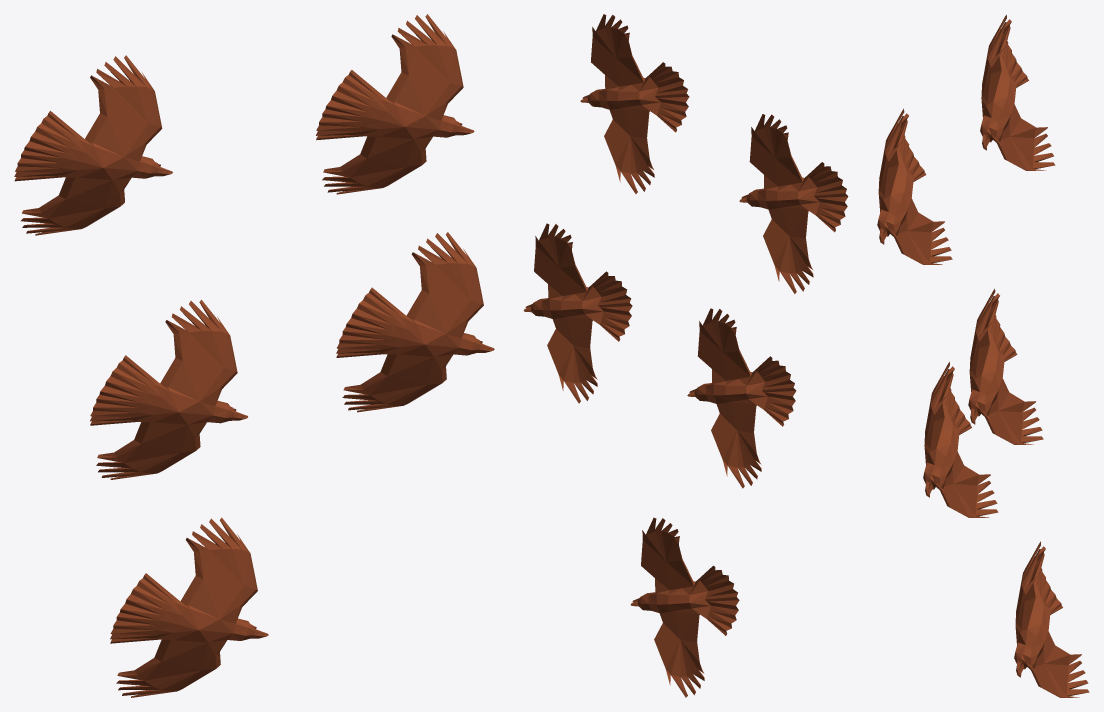
File: Bird_02.obj
3 views of the same model, side by side, from view 1: azimuth 30°, elevation 25°; view 2: azimuth 150°, elevation 25°; view 3: azimuth 270°, elevation 25° (orthographic). The views are drawn at different scales.
Parts seen in each view (by area): view 1: pCube7.1, pCube7, pCube7.2, pCube7.3, pCube7.4; view 2: pCube7.3, pCube7.2, pCube7.4, pCube7, pCube7.1; view 3: pCube7, pCube7.3, pCube7.1, pCube7.4, pCube7.2.
Boxes of the visible parts, x1,y1,x2,y2 form: pCube7.1: (316, 14, 474, 194); pCube7: (336, 232, 494, 412); pCube7.2: (90, 300, 247, 479); pCube7.3: (110, 517, 268, 697); pCube7.4: (14, 55, 172, 235); pCube7.3: (630, 517, 739, 697); pCube7.2: (687, 308, 796, 488); pCube7.4: (739, 114, 848, 293); pCube7: (523, 223, 632, 403); pCube7.1: (580, 14, 689, 193); pCube7: (923, 361, 998, 517); pCube7.3: (1014, 541, 1089, 697); pCube7.1: (877, 108, 952, 264); pCube7.4: (980, 14, 1055, 170); pCube7.2: (968, 288, 1043, 444).
Bounding box in the file's own units: 57 × 89.09 × 25.63.
